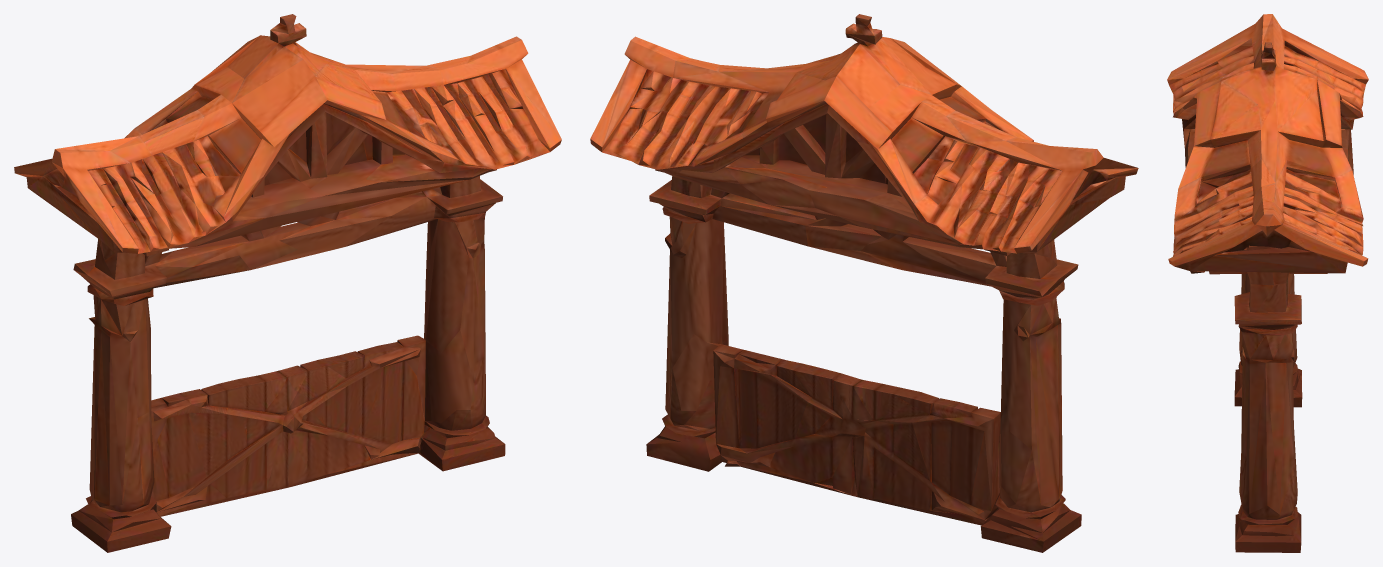
File: gate.glb
The picture shows the model from 3 angles, left to right: view 1: azimuth 30°, elevation 25°; view 2: azimuth 150°, elevation 25°; view 3: azimuth 270°, elevation 25°; orthographic projection. The views are drawn at different scales.
Parts seen in each view (by area): view 1: output_unwrapped; view 2: output_unwrapped; view 3: output_unwrapped.
Boxes of the visible parts, box(x1,y1,x2,y2) form: output_unwrapped: box(14, 14, 561, 552); output_unwrapped: box(590, 14, 1138, 552); output_unwrapped: box(1167, 14, 1368, 552).
Size of the model in its own units: 1.9 by 1.84 by 0.797.
Materials: 1 (1 with a texture image).
